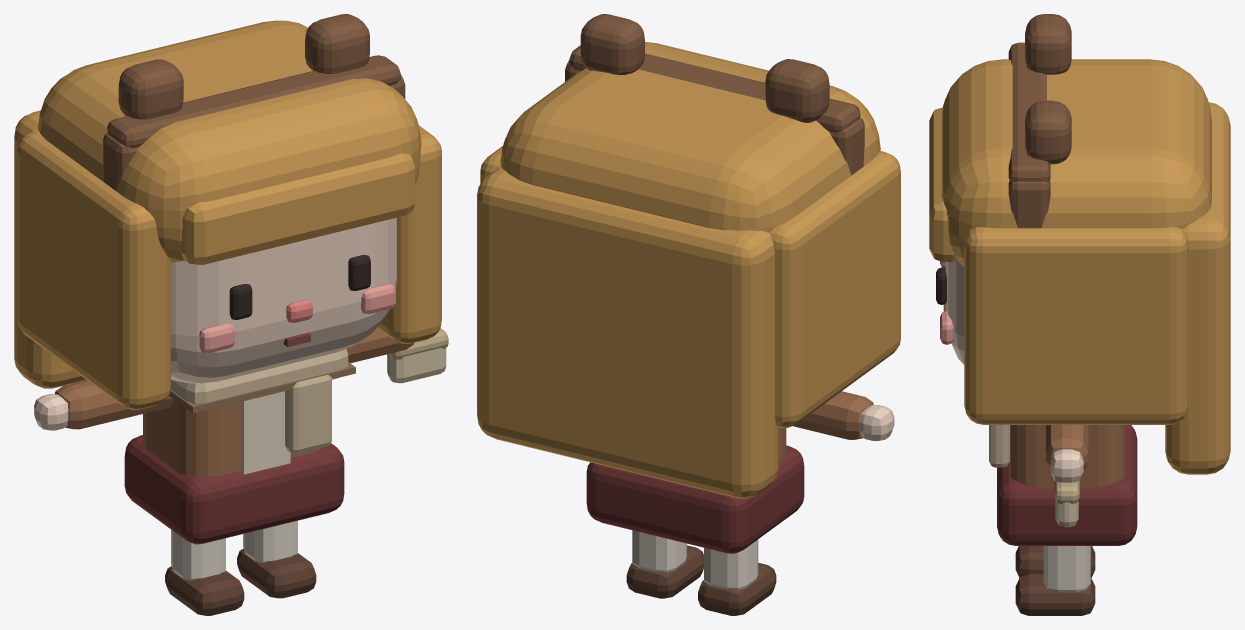
Rendered from CHAR_Customer_normal_girlbearears.fbx.
The picture shows the model from 3 angles, left to right: view 1: azimuth 30°, elevation 25°; view 2: azimuth 150°, elevation 25°; view 3: azimuth 270°, elevation 25°; orthographic projection. The views are drawn at different scales.
Visible parts, largest first — view 1: CHAR_Customer_normal_girlbearears; view 2: CHAR_Customer_normal_girlbearears; view 3: CHAR_Customer_normal_girlbearears.
Part boxes in pixels (<box>): CHAR_Customer_normal_girlbearears: <box>14,14,448,615</box>; CHAR_Customer_normal_girlbearears: <box>477,14,900,615</box>; CHAR_Customer_normal_girlbearears: <box>929,14,1230,615</box>.
Bounding box in the file's own units: 0.0962 × 0.125 × 0.0645.
